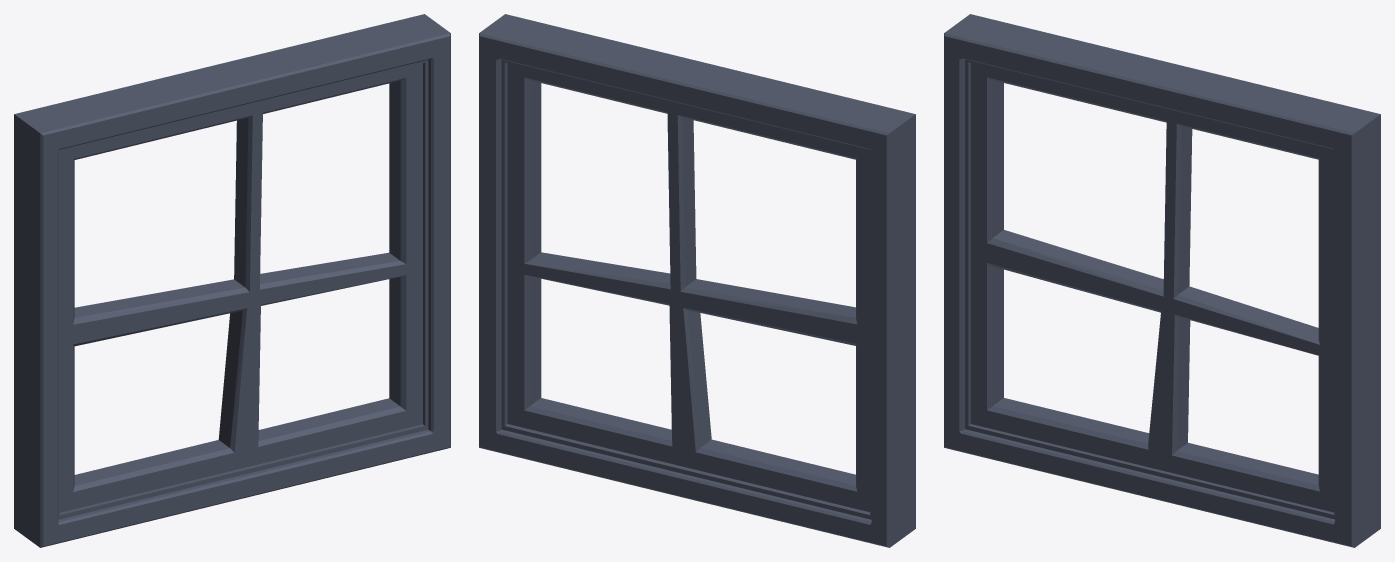
The model's file is Window.FBX.
3 views of the same model, side by side, from view 1: azimuth 30°, elevation 25°; view 2: azimuth 150°, elevation 25°; view 3: azimuth 330°, elevation 25° (orthographic).
Visible parts, largest first — view 1: Window; view 2: Window; view 3: Window.
Boxes of the visible parts, x1,y1,x2,y2 form: Window: [14, 14, 450, 547]; Window: [479, 14, 915, 547]; Window: [944, 14, 1380, 547].
Size of the model in its own units: 175 by 169 by 20.82.
